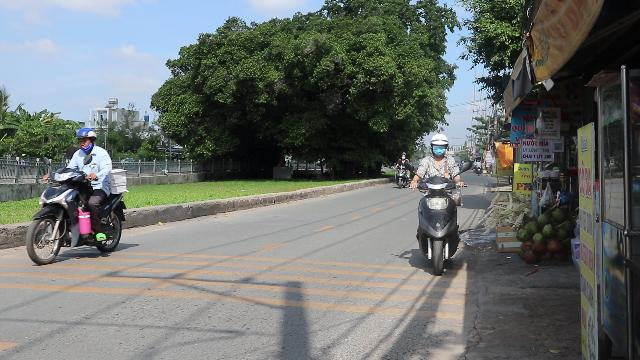helmet: (74, 128, 98, 152), (429, 134, 449, 158)
motorcyclist: (25, 126, 131, 264), (407, 132, 473, 276)
